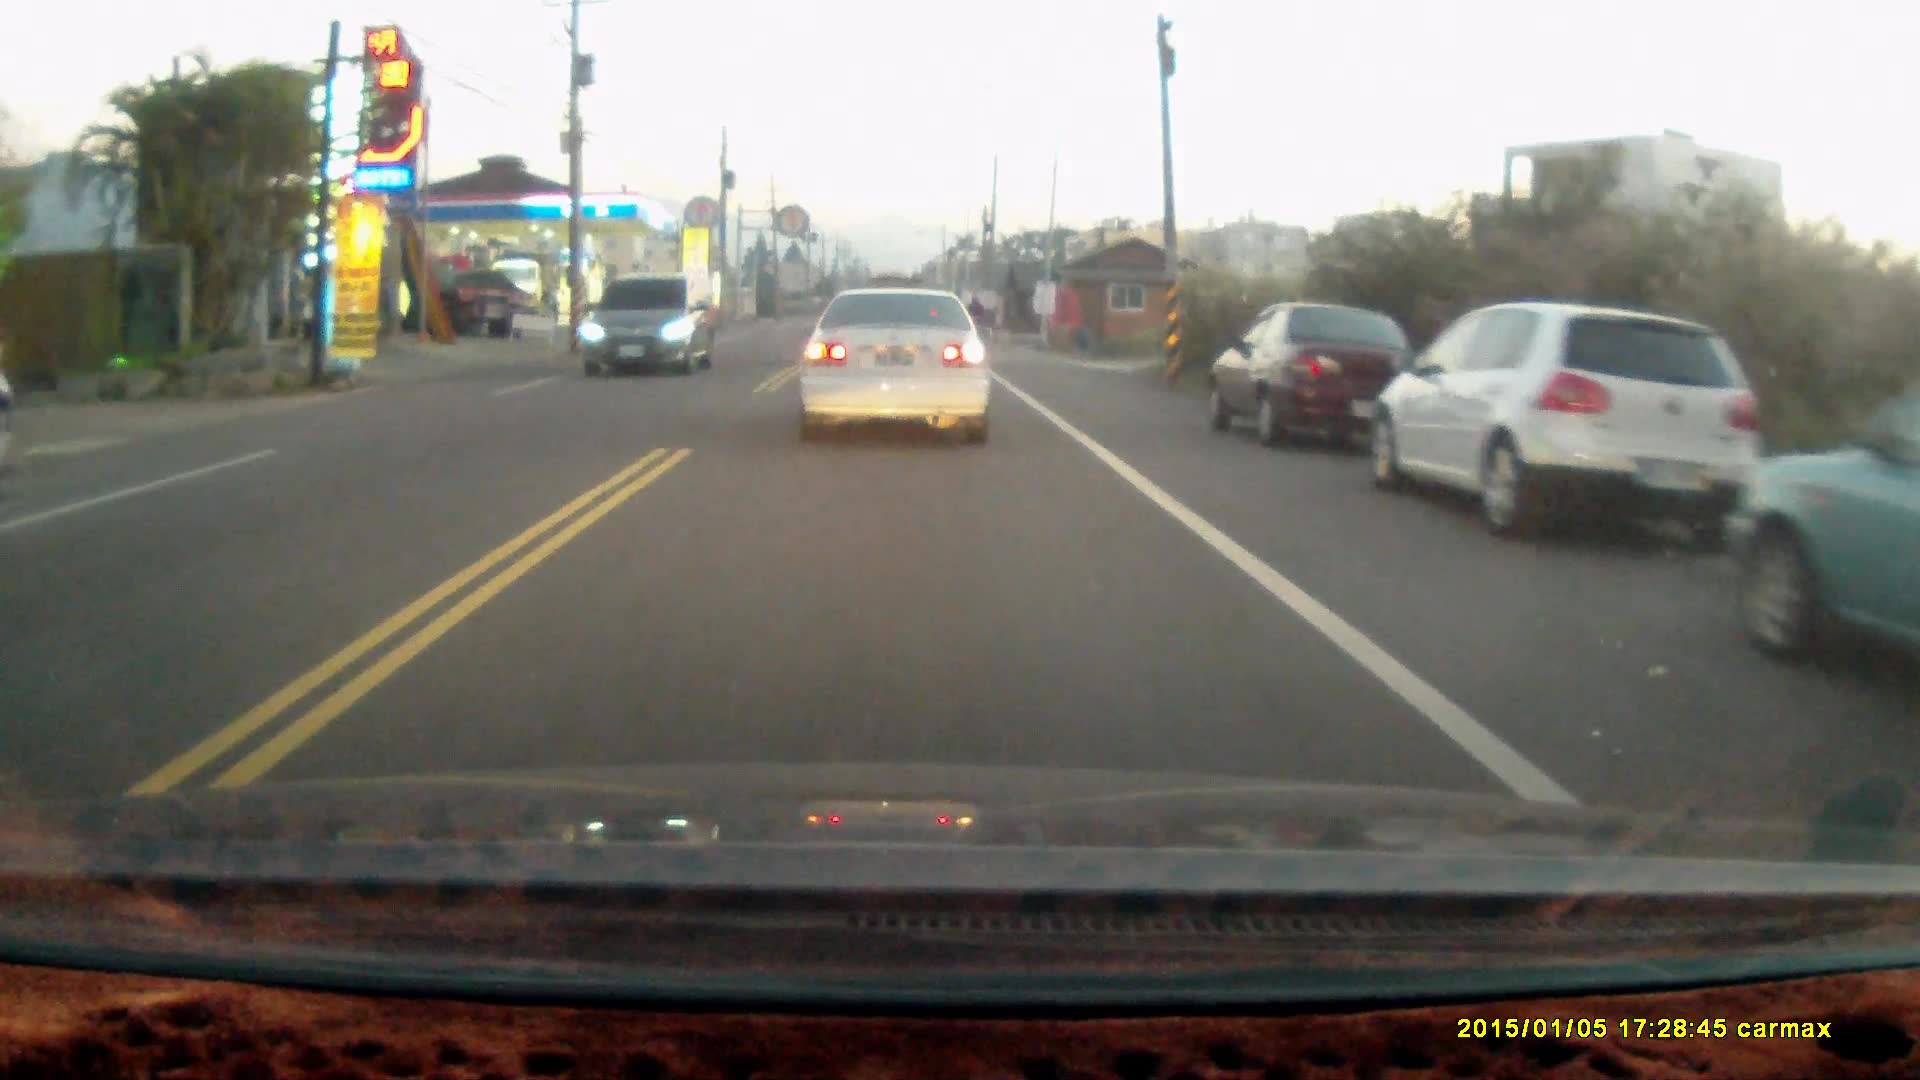vehicle: (1375, 297, 1778, 533), (1724, 385, 1920, 683), (796, 280, 996, 446), (1209, 299, 1433, 442), (582, 273, 719, 375)
